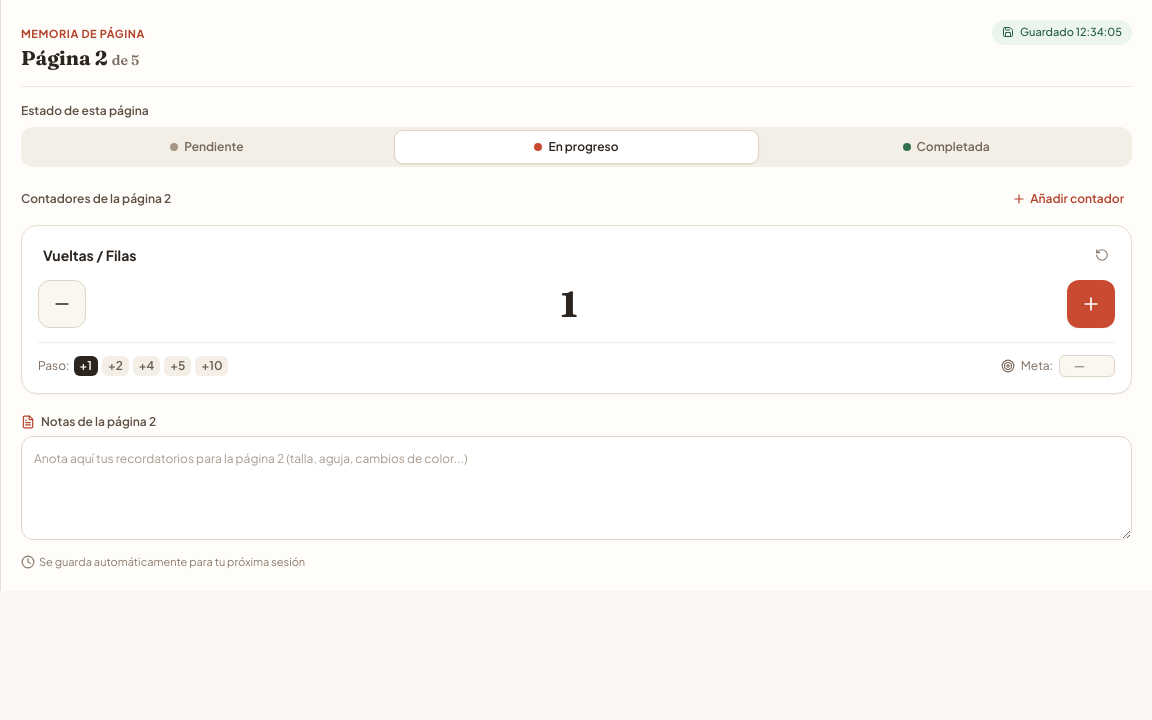
PageCounterPanel › increments, decrements, sets target, and adds extra counters for the current page
Earlier steps of the test are not shown.
Later steps or results of the test are not shown.
Click the button named "Sumar 1 a Vueltas / Filas". click: [1091, 304]
box: [1067,280,1115,328]
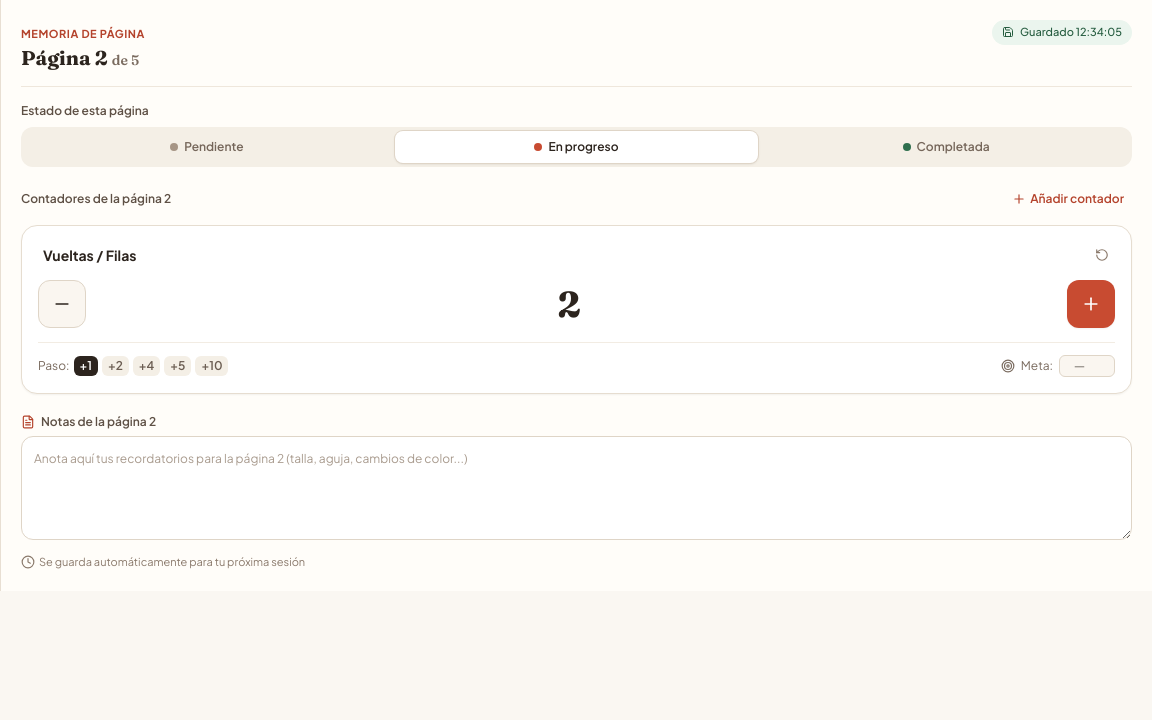
Expected: the number field named "Valor de Vueltas / Filas" holds "2", [528,284,624,324]
// Decrement by 1
Click the button named "Restar 1 a Vueltas / Filas". click: [62, 304]
box: [38,280,86,328]
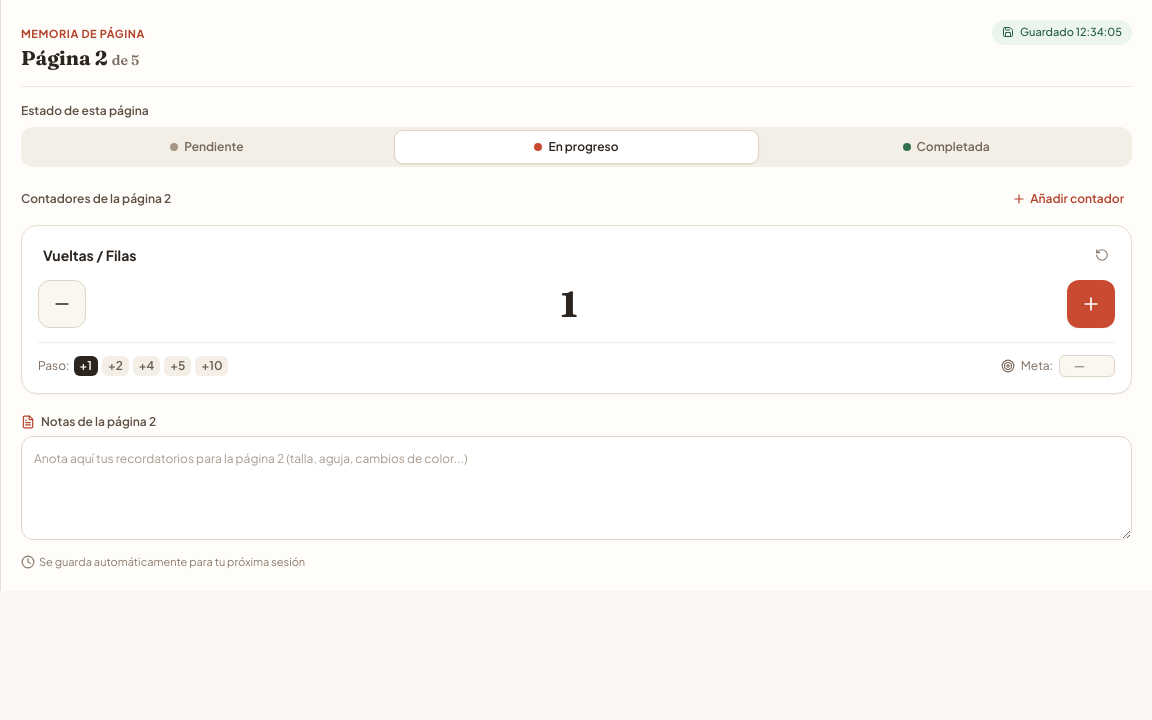
Expected: the number field named "Valor de Vueltas / Filas" holds "1", [528,284,624,324]
// Add a target and reach it
Type "2" into the number field named "Meta de Vueltas / Filas". click: [1087, 366]
box: [1059,355,1115,377]
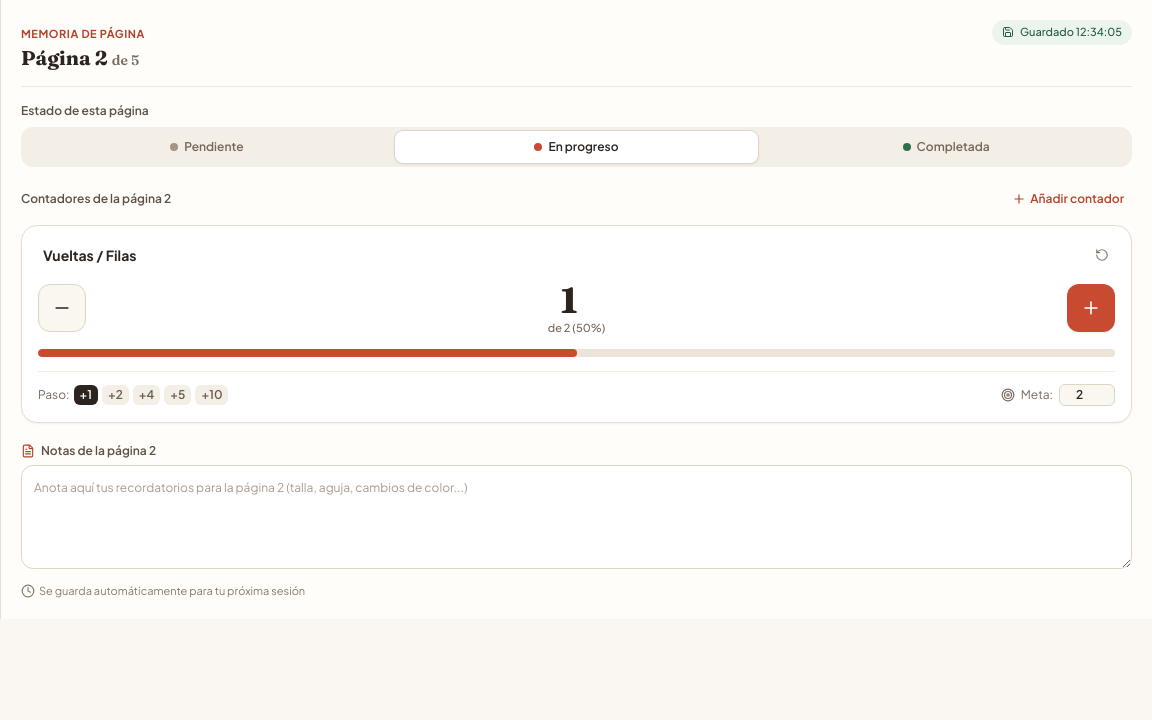
Click the button named "Sumar 1 a Vueltas / Filas". click: [1091, 308]
box: [1067,284,1115,332]
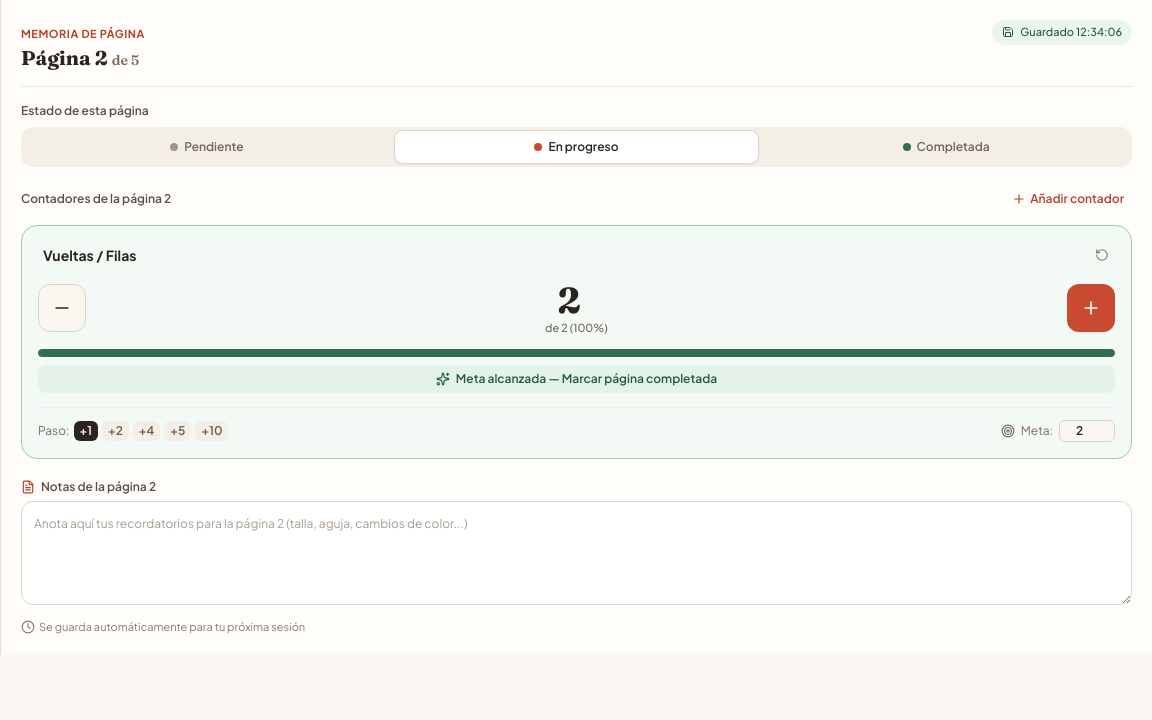
Expected: the button "Meta alcanzada — Marcar página completada" is shown, [38,364,1115,392]
// Add a second independent counter on the same page
Click the button "Añadir contador". click: [1068, 199]
box: [1004,187,1132,211]
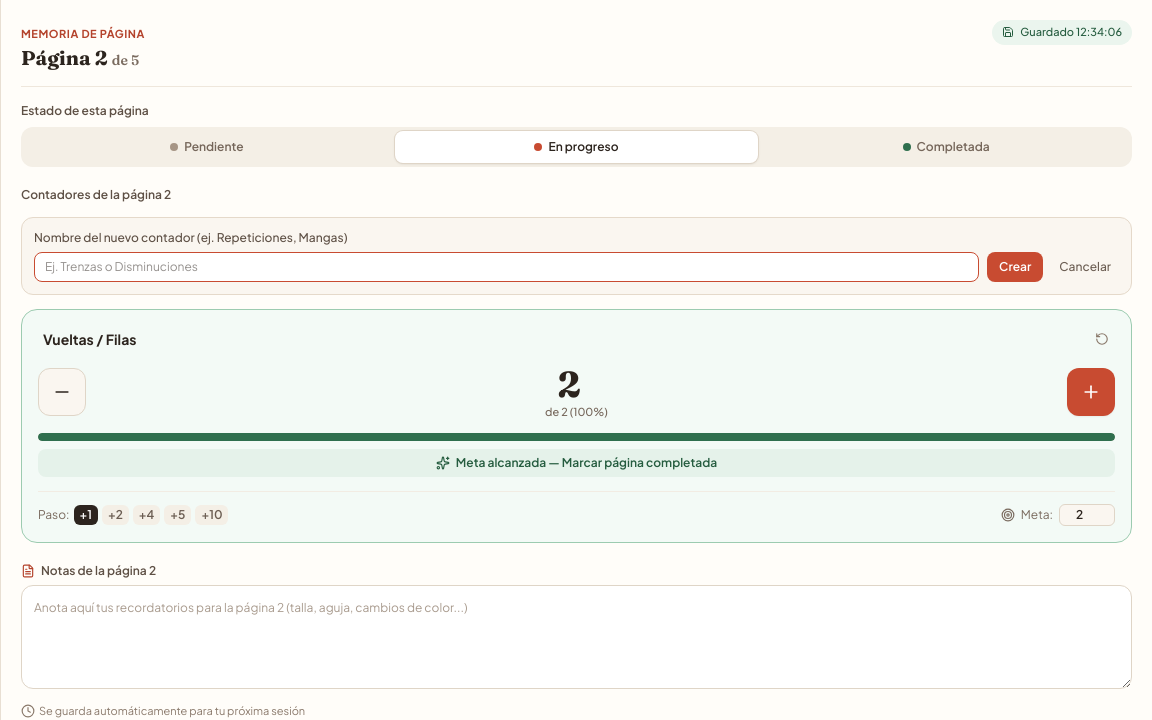
Type "Disminuciones" into the field with placeholder "Ej. Trenzas o Disminuciones". click: [507, 267]
box: [34,252,979,282]
Click the button "Crear". click: [1015, 267]
box: [987,252,1043,282]
(page scrolled)
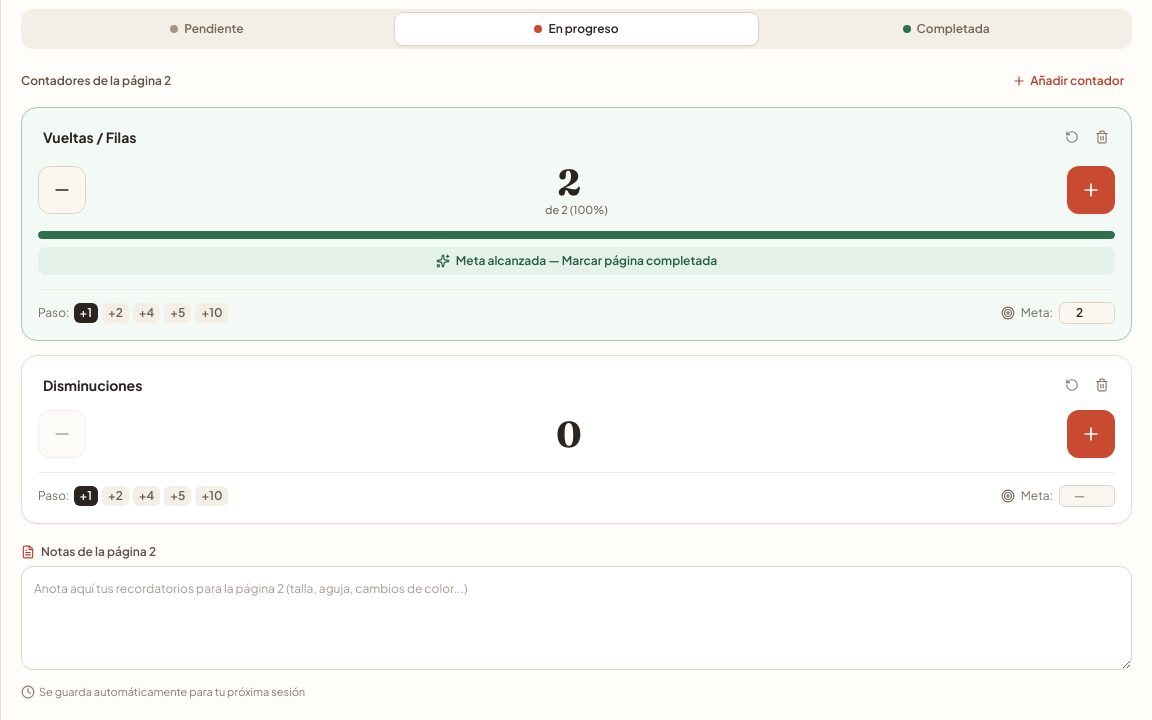
Expected: the number field named "Valor de Disminuciones" is shown, [528,414,624,454]
